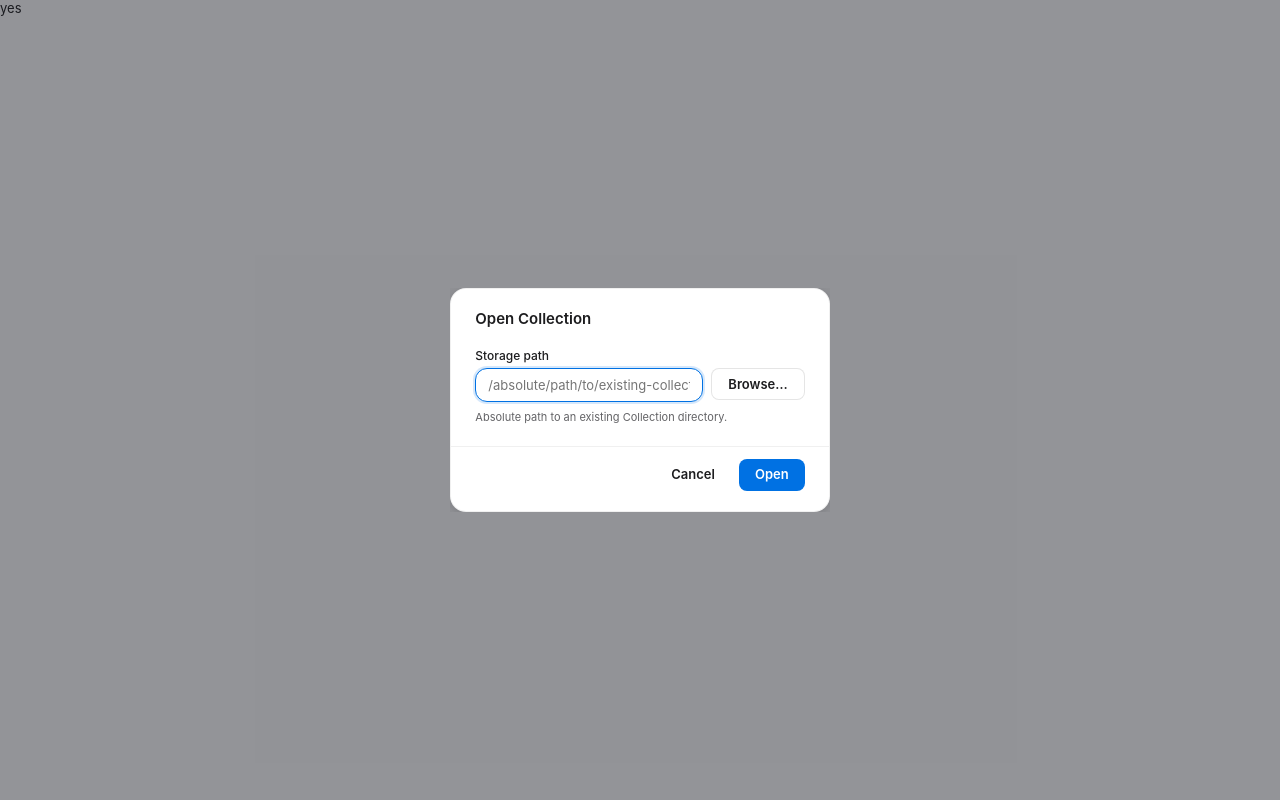
Test: <OpenCollectionDialog /> › shows a validation error when the path is empty
What coordinates should you click on to do the following:
click the button with test id "zv-open-submit"
I would click on:
 (772, 475)
Its box is [739,459,805,491].
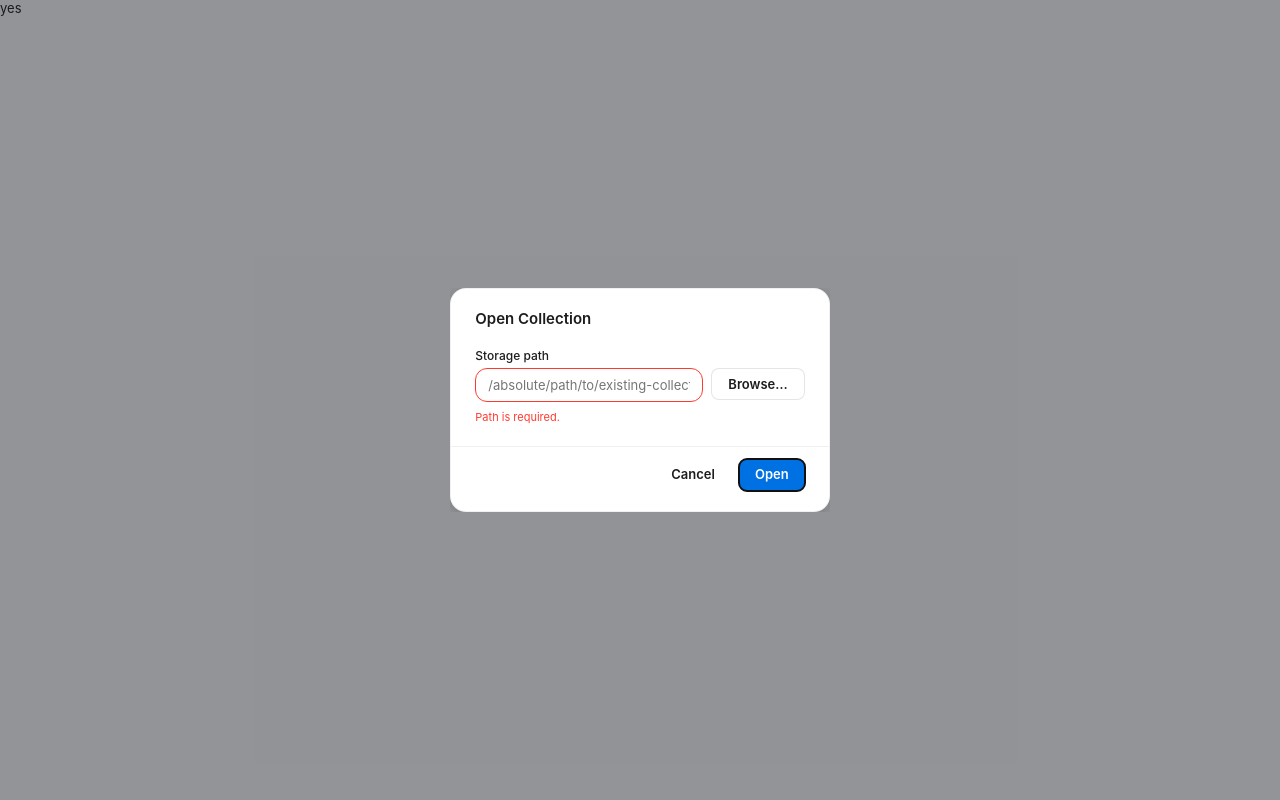
Expected: the text "Path is required." is shown, [475,410,560,424]
